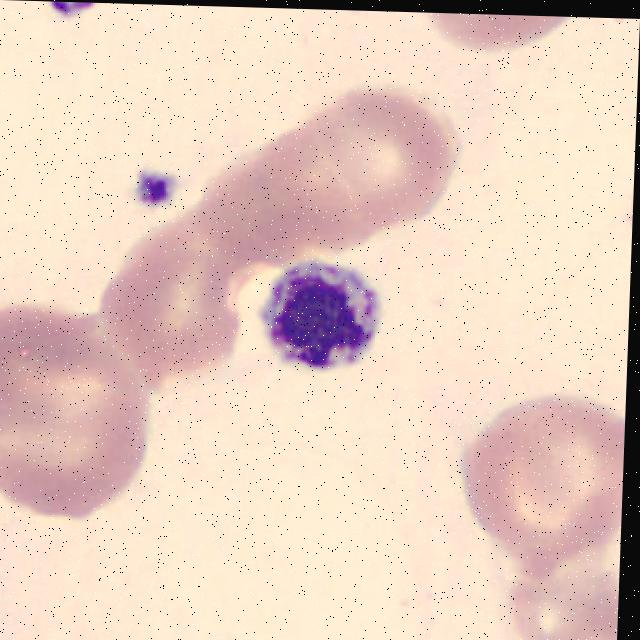platelets: (249, 253, 390, 378), (51, 2, 106, 40)
rbc: (0, 302, 153, 529), (456, 389, 626, 573), (300, 89, 496, 233), (101, 245, 248, 408), (264, 123, 383, 258), (195, 144, 316, 269), (413, 13, 601, 68), (497, 556, 620, 640)
